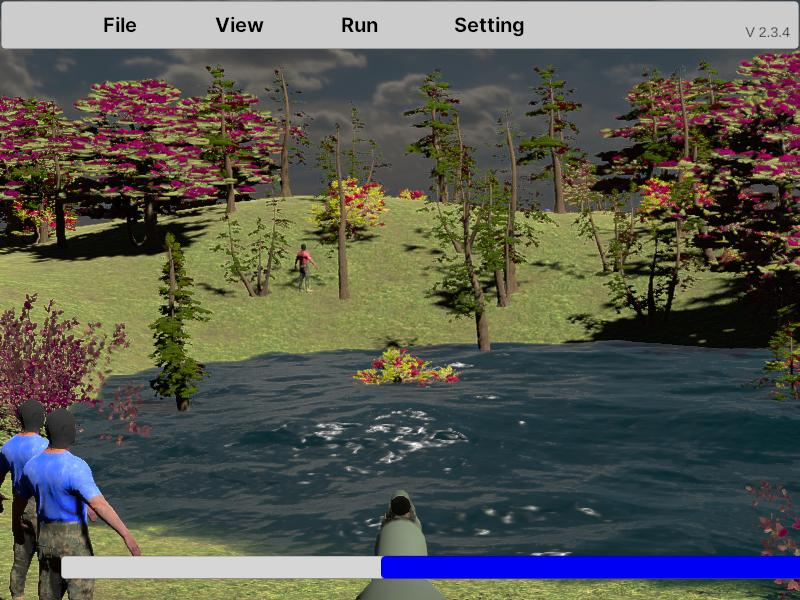Human: (10, 405, 142, 599), (0, 398, 111, 600), (295, 242, 316, 294)
